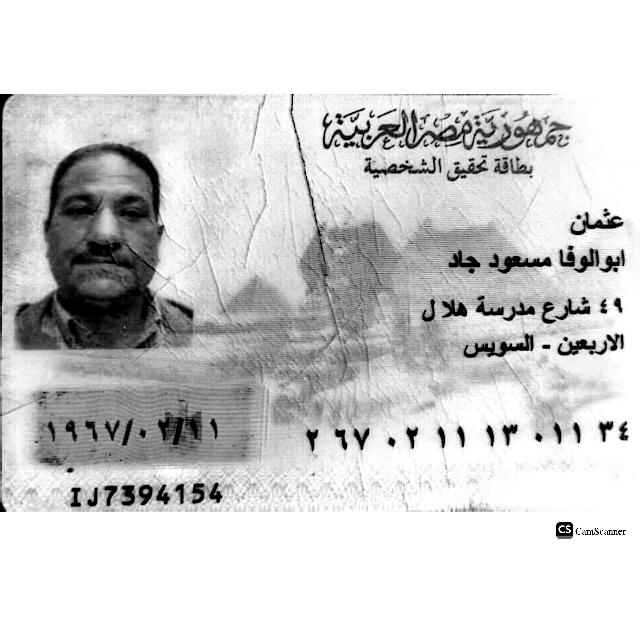id_card: (0, 94, 640, 512)
